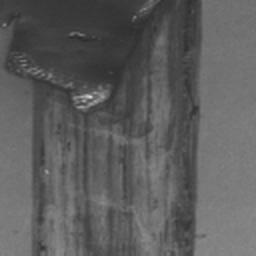Slag inclusion: (0, 0, 202, 256)
